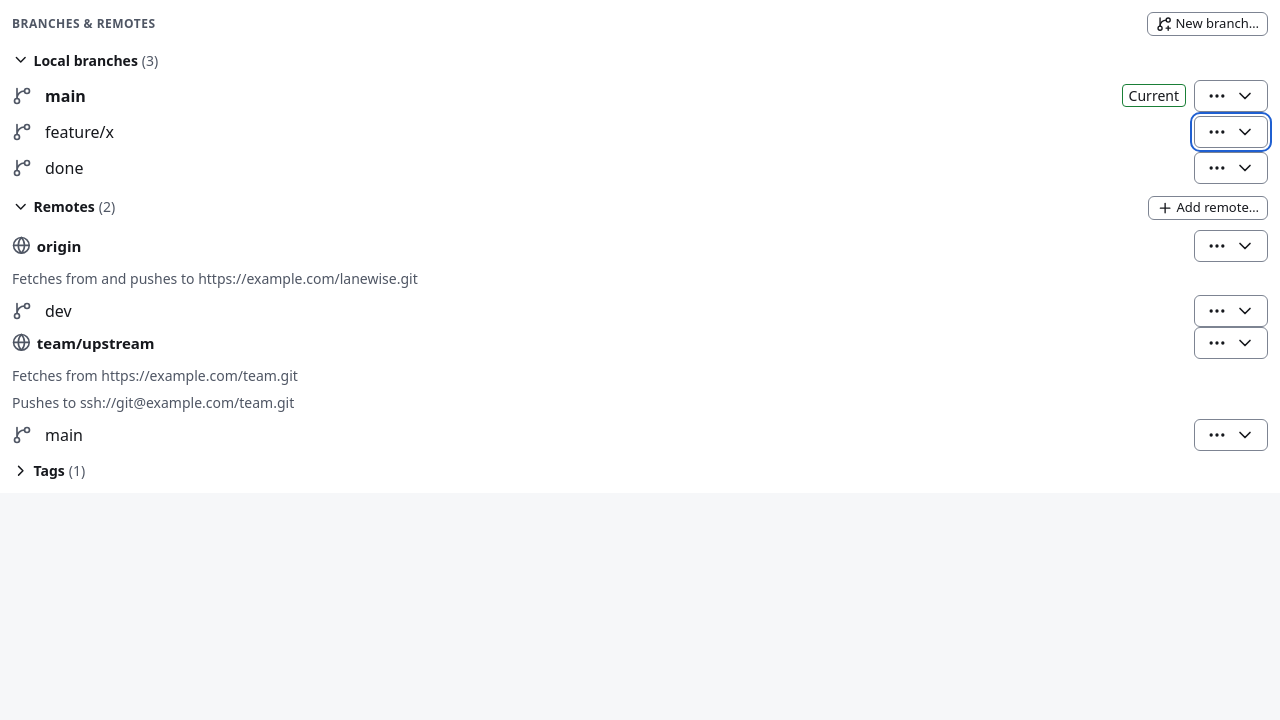
it: checking out over uncommitted changes it would overwrite says which, and offers to stash them first
Expected: the button named "Actions for feature/x" is shown, [1194,116,1268,148]
Press Enter
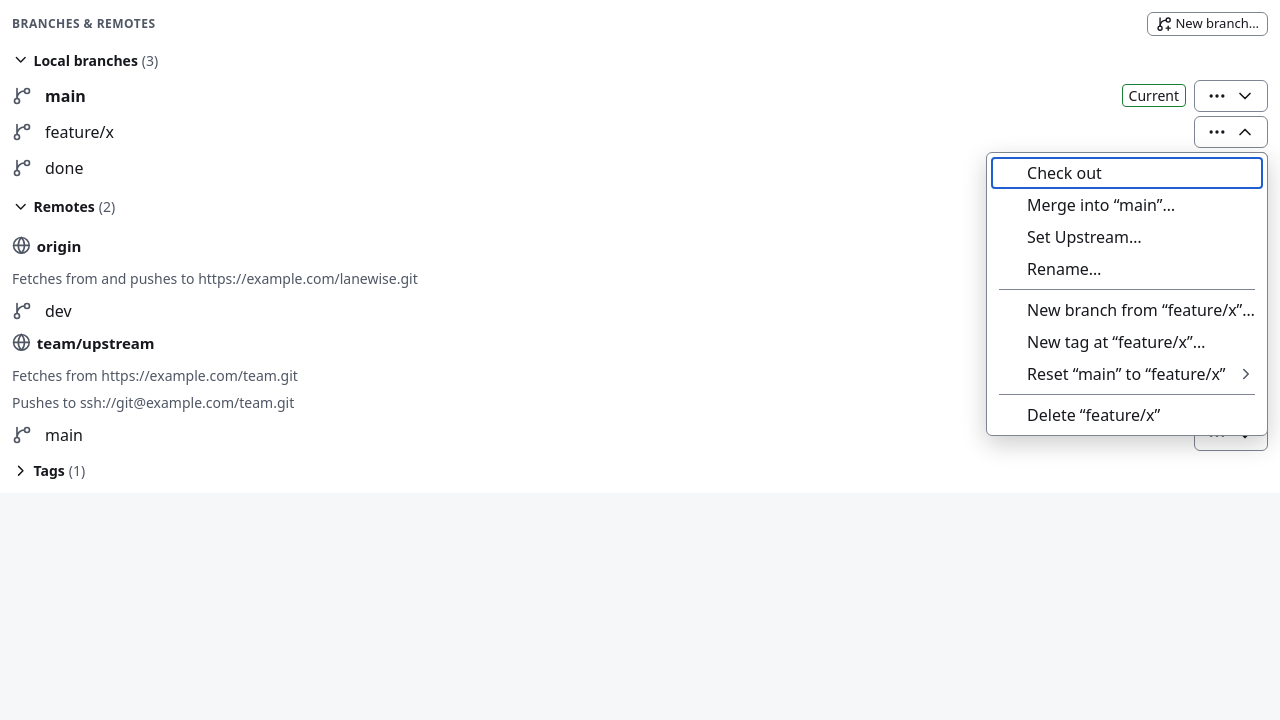
Press Enter
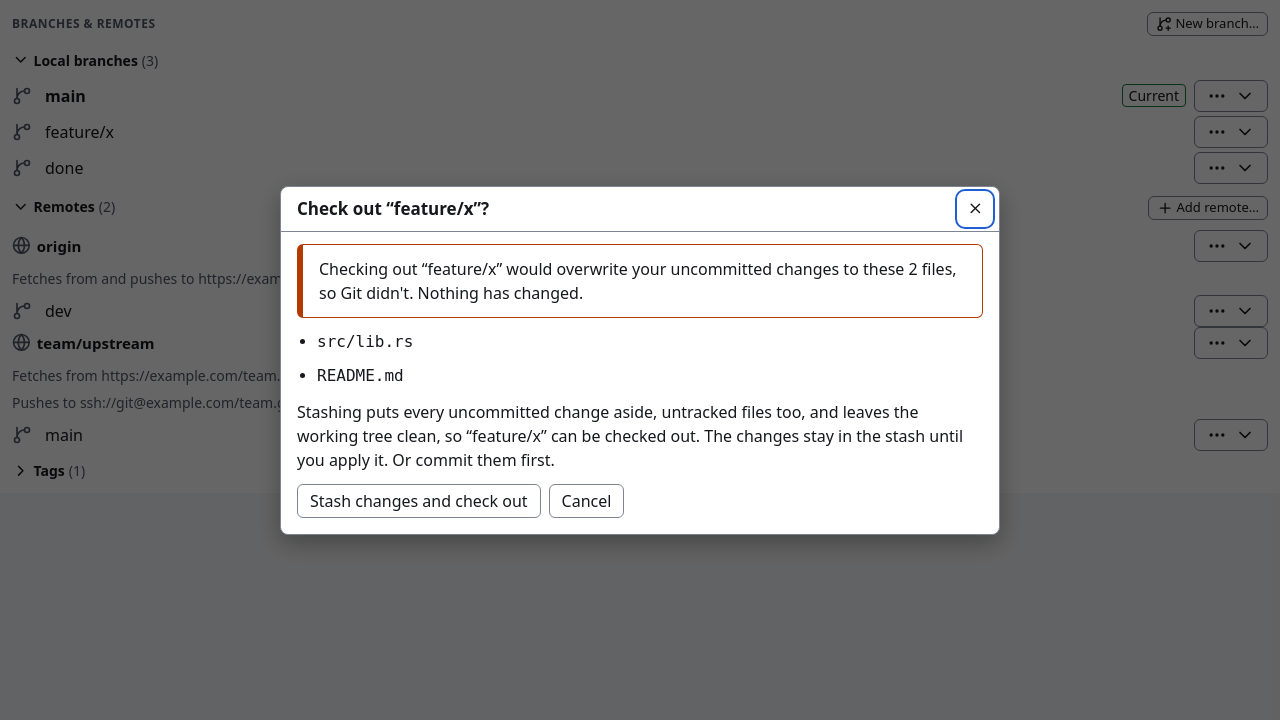
Expected: the dialog "Check out “feature/x”?" shows "Checking out “feature/x” would overwrite your uncommitted changes to these 2 files, so Git didn't. Nothing has changed.", [280,186,1000,534]
Expected: the list items read "src/lib.rs", "README.md", in this order, [317,332,413,350]; [317,366,404,384]
Click the button "Stash changes and check out": (419,500) [297,484,541,518]
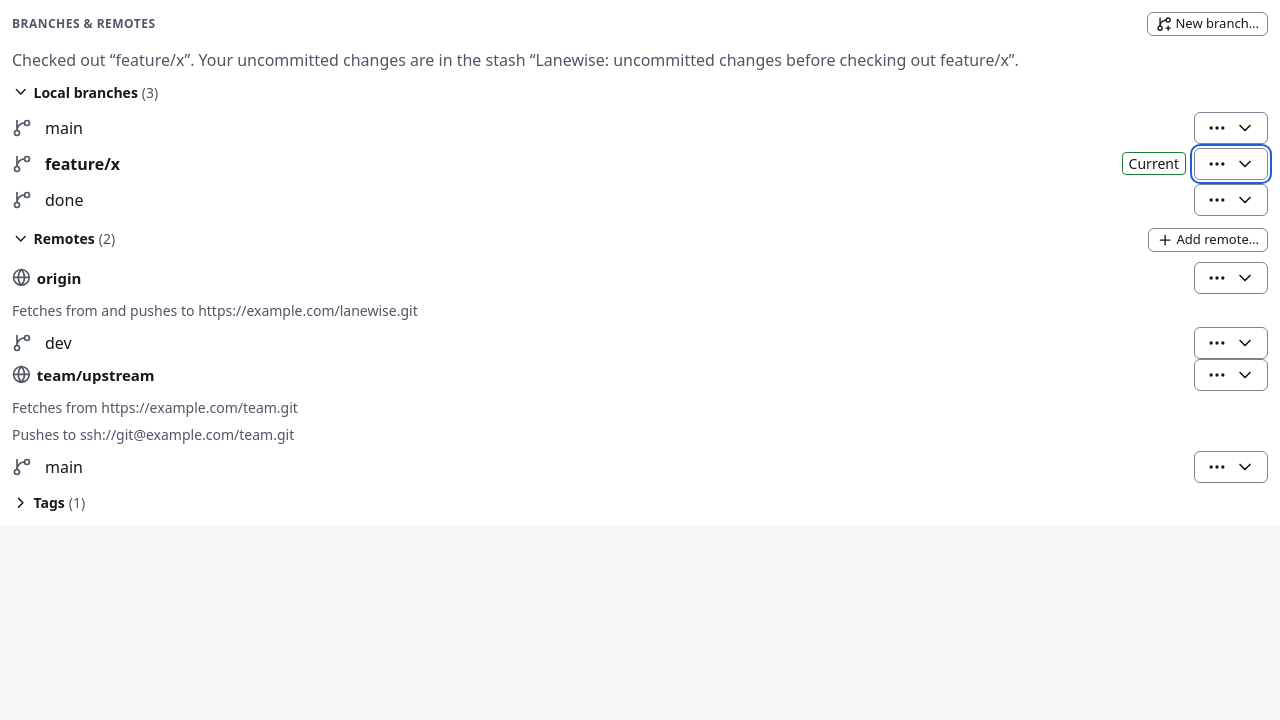
Expected: the text "Checked out “feature/x”. Your uncommitted changes are in the stash “Lanewise: uncommitted changes before checking out fe" is shown, [12,49,1019,71]
Expected: the list item "feature/x Current" is shown, [12,148,1268,180]
